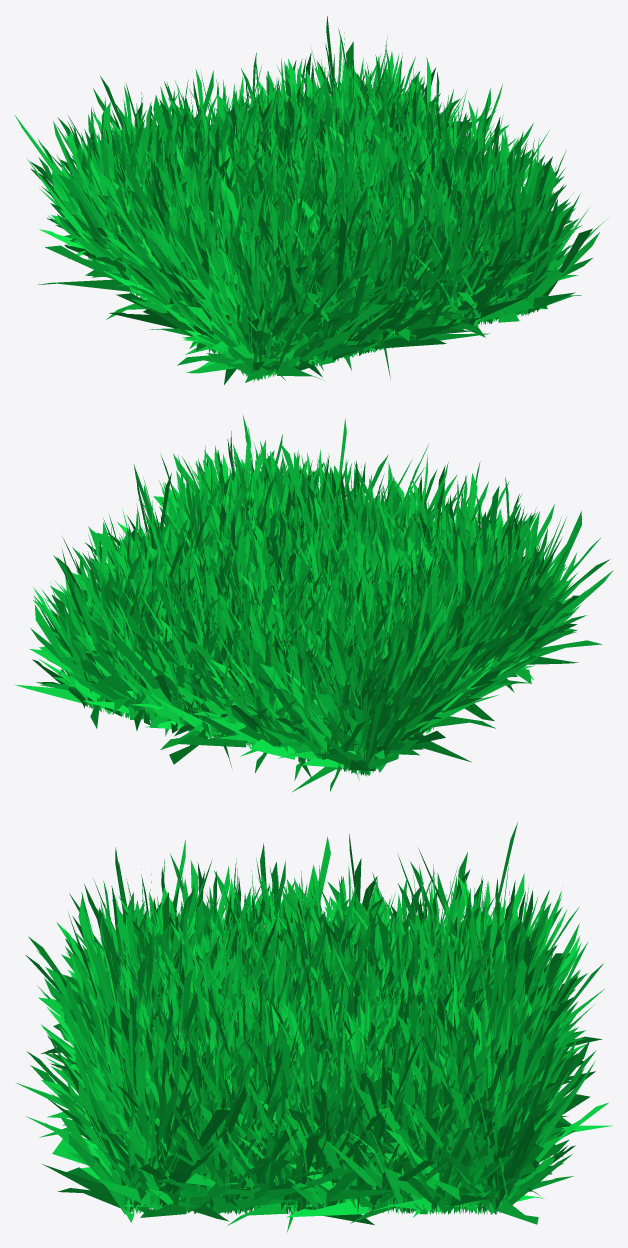
File: grass.fbx
3 renders of one model, top to bottom at view 1: azimuth 30°, elevation 25°; view 2: azimuth 150°, elevation 25°; view 3: azimuth 270°, elevation 25°, orthographic. The views are drawn at different scales.
Visible parts, largest first — view 1: 平面.001; view 2: 平面.001; view 3: 平面.001.
Boxes of the visible parts, bbox=[...] form: 平面.001: bbox=[15, 16, 609, 384]; 平面.001: bbox=[14, 414, 613, 791]; 平面.001: bbox=[15, 822, 612, 1232].
Size of the model in its own units: 311 by 139 by 310.
